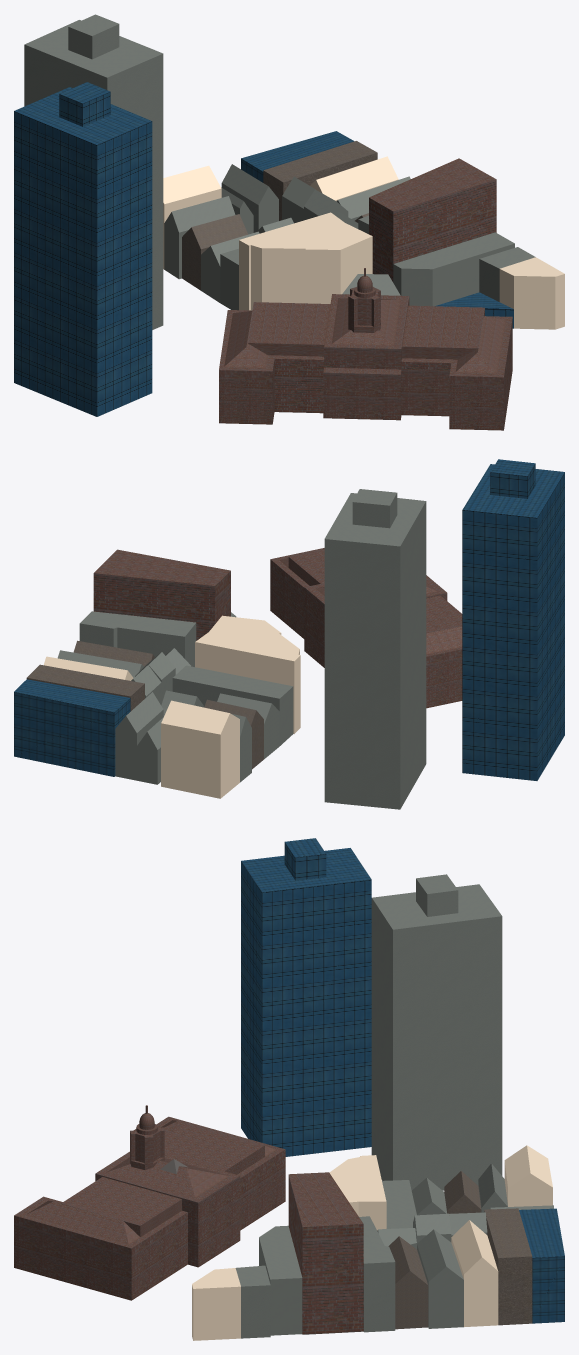
Rendered from Babylon-Tests.glb.
3 renders of one model, top to bottom at view 1: azimuth 30°, elevation 25°; view 2: azimuth 150°, elevation 25°; view 3: azimuth 270°, elevation 25°, orthographic. The views are drawn at different scales.
Visible parts, largest first — view 1: Building_006.001, New York City Hall.001, Building_007.001, Building_39691.001, Building_39667.001, Building_39712.001, Building_39700.001, Building_39665.001, Building_39679.001, Building_39676.001, Building_39704.001, Building_39702.001 (+12 smaller); view 2: Building_006.001, Building_007.001, New York City Hall.001, Building_39705.001, Building_39691.001, Building_39704.001, Building_39667.001, Building_39648.001, Building_39669.001, Building_39645.001, Building_39665.001, Chatham Towers.001 (+10 smaller); view 3: Building_006.001, Building_007.001, New York City Hall.001, Building_39691.001, Building_39665.001, Building_39705.001, Building_39712.001, Building_39702.001, Building_39658.001, Building_39700.001, Building_39648.001, Building_39653.001 (+9 smaller).
Part boxes in pixels (x1=…): Building_006.001: x1=14, y1=82, x2=152, y2=416; New York City Hall.001: x1=219, y1=268, x2=512, y2=430; Building_007.001: x1=24, y1=20, x2=163, y2=329; Building_39691.001: x1=369, y1=158, x2=496, y2=282; Building_39667.001: x1=239, y1=212, x2=372, y2=310; Building_39712.001: x1=393, y1=232, x2=514, y2=306; Building_39700.001: x1=499, y1=257, x2=564, y2=329; Building_39665.001: x1=263, y1=141, x2=377, y2=220; Building_39679.001: x1=164, y1=196, x2=235, y2=279; Building_39676.001: x1=182, y1=214, x2=248, y2=290; Building_39704.001: x1=163, y1=165, x2=221, y2=269; Building_39702.001: x1=310, y1=156, x2=398, y2=201; Building_006.001: x1=462, y1=459, x2=564, y2=780; Building_007.001: x1=324, y1=493, x2=426, y2=809; New York City Hall.001: x1=270, y1=548, x2=462, y2=708; Building_39705.001: x1=14, y1=679, x2=130, y2=776; Building_39691.001: x1=93, y1=549, x2=230, y2=640; Building_39704.001: x1=161, y1=700, x2=239, y2=798; Building_39667.001: x1=195, y1=615, x2=300, y2=733; Building_39648.001: x1=79, y1=611, x2=196, y2=666; Building_39669.001: x1=172, y1=665, x2=293, y2=745; Building_39645.001: x1=115, y1=692, x2=163, y2=780; Building_39665.001: x1=26, y1=664, x2=144, y2=711; Chatham Towers.001: x1=352, y1=489, x2=397, y2=528; Building_006.001: x1=241, y1=838, x2=371, y2=1156; Building_007.001: x1=371, y1=884, x2=502, y2=1190; New York City Hall.001: x1=14, y1=1105, x2=285, y2=1300; Building_39691.001: x1=288, y1=1172, x2=363, y2=1334; Building_39665.001: x1=484, y1=1208, x2=532, y2=1325; Building_39705.001: x1=519, y1=1208, x2=564, y2=1323; Building_39712.001: x1=259, y1=1225, x2=302, y2=1335; Building_39702.001: x1=451, y1=1220, x2=498, y2=1326; Building_39658.001: x1=417, y1=1229, x2=463, y2=1328; Building_39700.001: x1=192, y1=1268, x2=240, y2=1340; Building_39648.001: x1=359, y1=1216, x2=395, y2=1332; Building_39653.001: x1=388, y1=1236, x2=428, y2=1329.
Size of what is drawn, in the model's own units: 127 by 76 by 131.
Materials: 5 (4 with a texture image).
